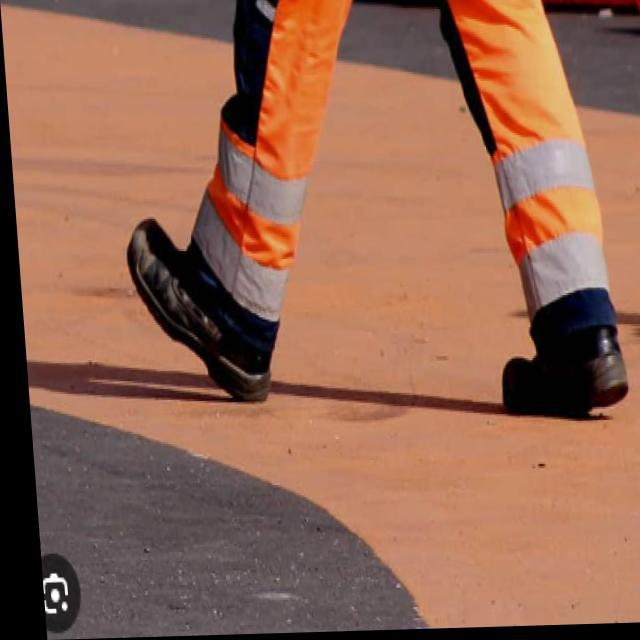shoes: (119, 198, 636, 435)
